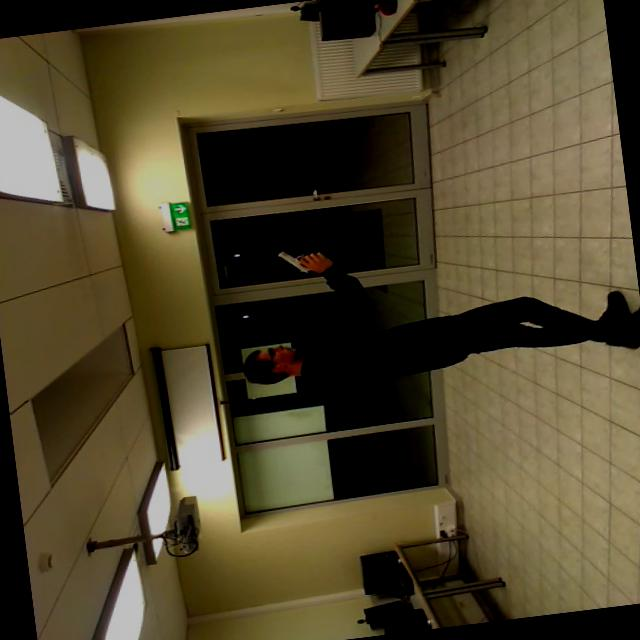handgun: (264, 238, 348, 281)
